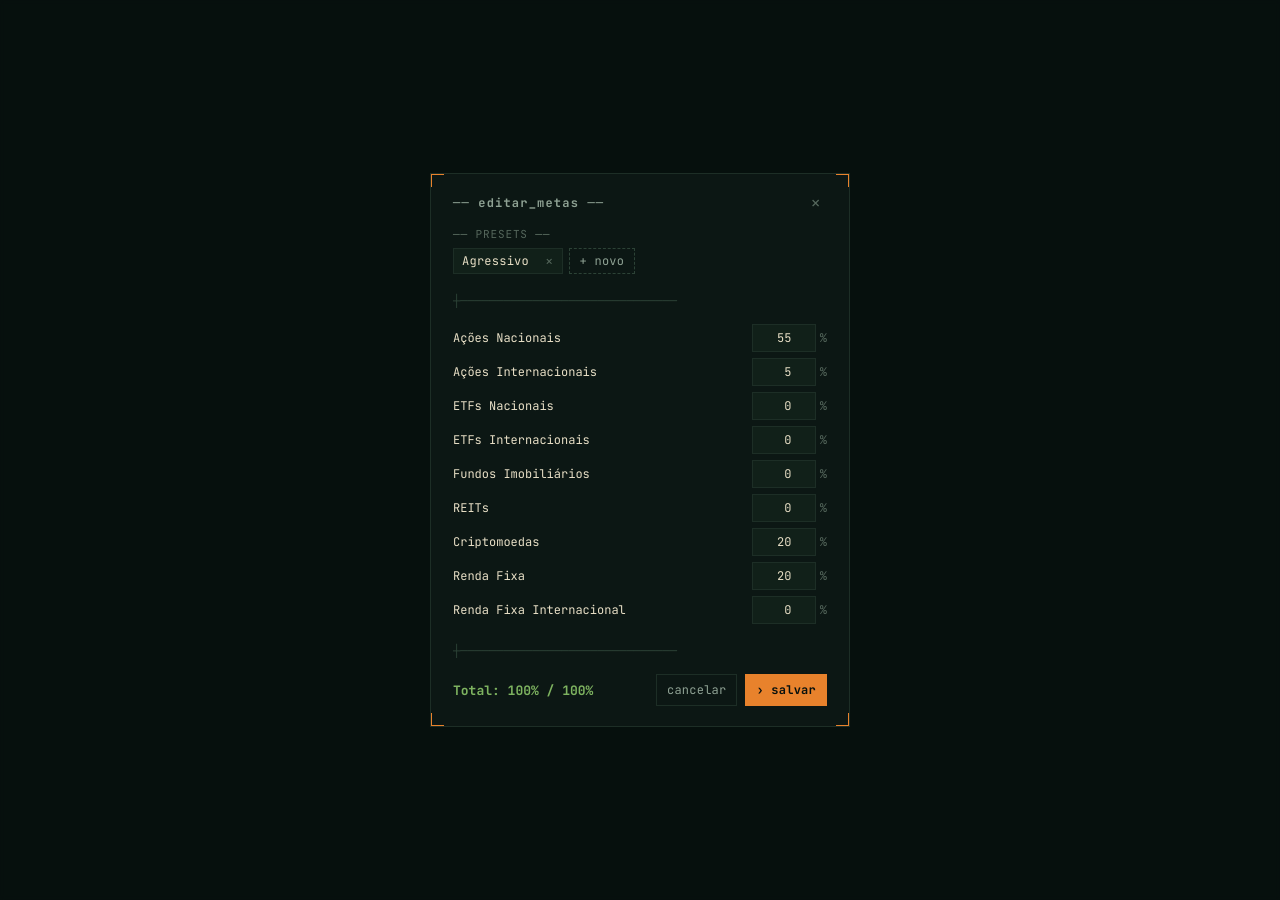
Test: EditTargetsModal › clicking a preset chip fills the inputs
Click the button "Agressivo" at x=496, y=261, box 454,249 -> 537,273
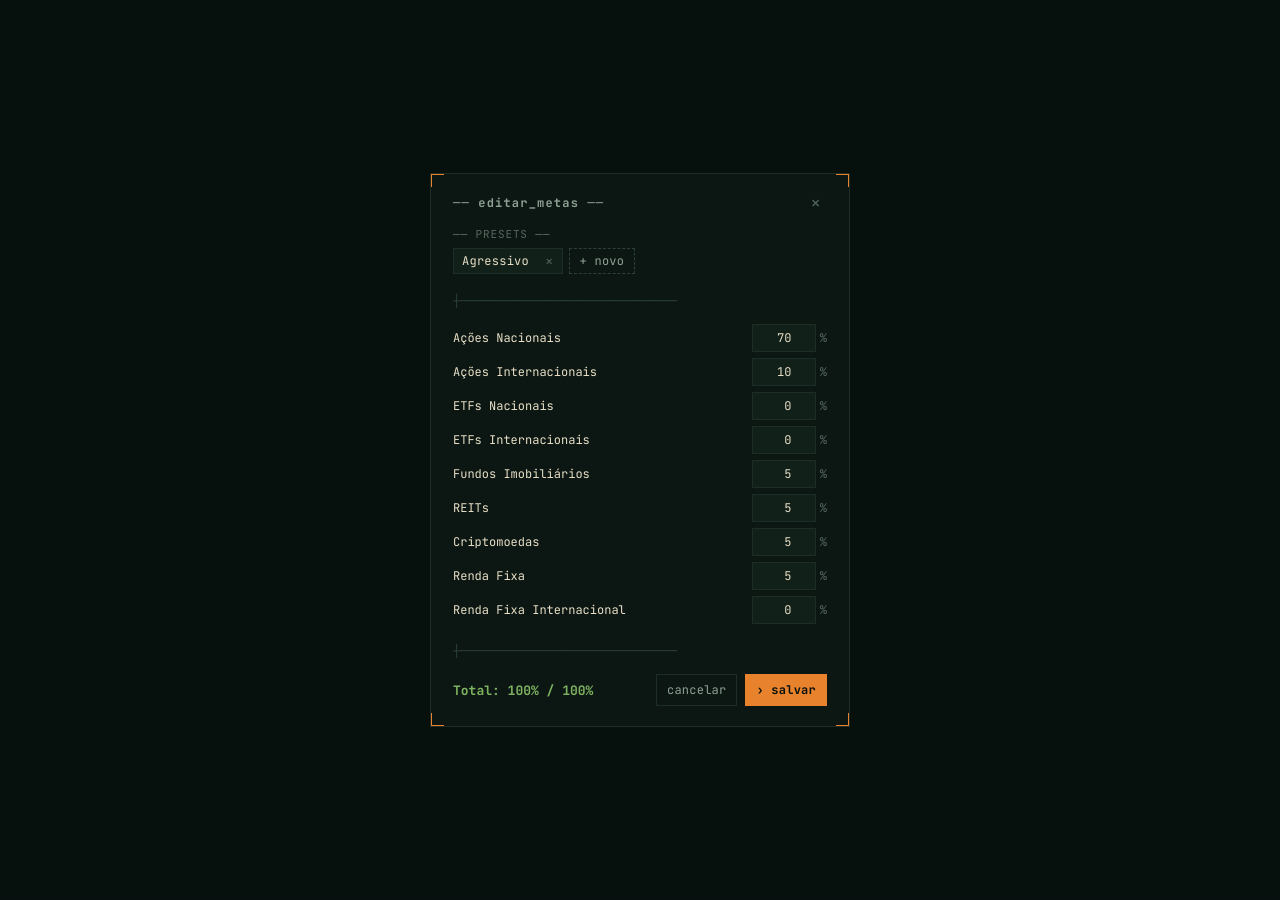
expect the number field with test id "target-input-acoes_nacionais" holds "70": met, box 752,324 -> 816,352
